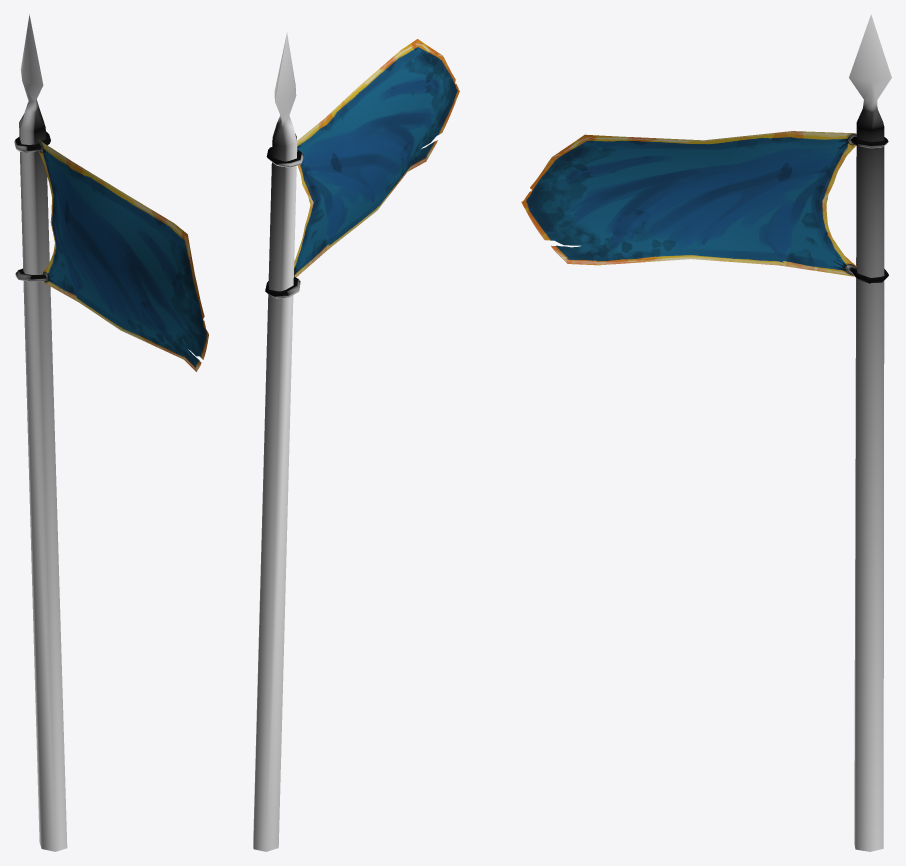
Rendered from SM_PROP_flag_05.FBX.
3 views of the same model, side by side, from view 1: azimuth 30°, elevation 25°; view 2: azimuth 150°, elevation 25°; view 3: azimuth 270°, elevation 25° (orthographic).
Parts seen in each view (by area): view 1: SM_PROP_flag_05; view 2: SM_PROP_flag_05; view 3: SM_PROP_flag_05.
Part boxes in pixels (x1,y1,x2,y2): SM_PROP_flag_05: (14,14,208,851); SM_PROP_flag_05: (253,32,459,851); SM_PROP_flag_05: (521,14,891,851).
Bounding box in the file's own units: 40.65 × 286 × 656.
